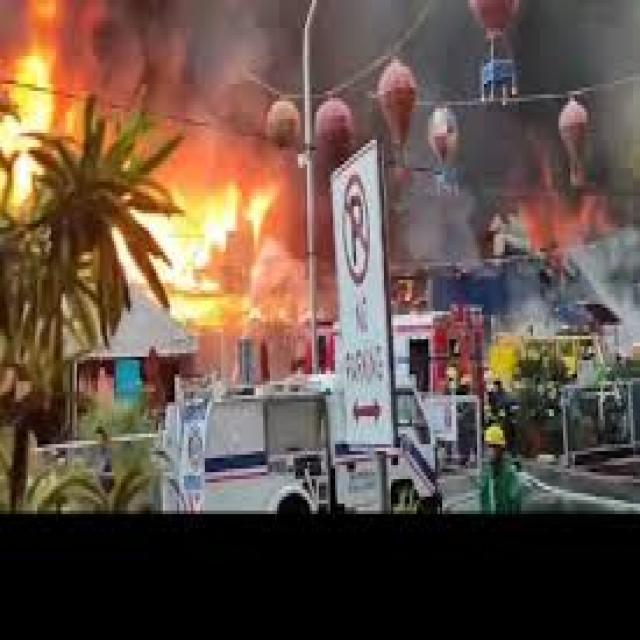Fire: (112, 172, 282, 331), (2, 0, 64, 201)
Smoke: (74, 0, 620, 238), (508, 164, 608, 287)
